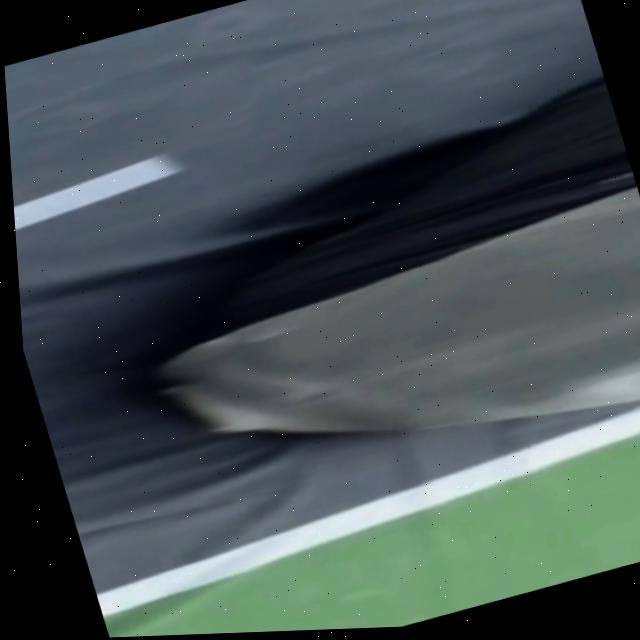center: (14, 154, 183, 229)
right: (95, 405, 640, 617)
